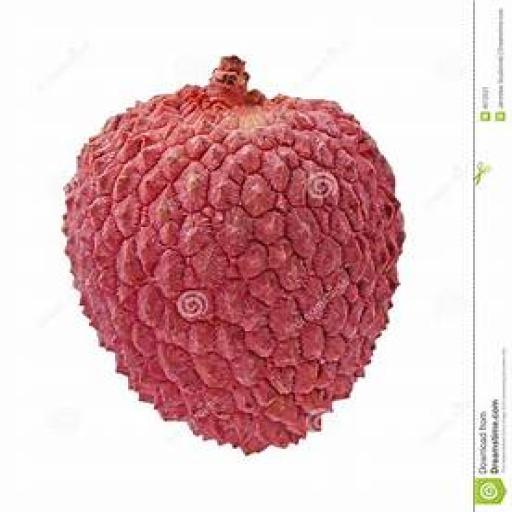lychee: (58, 53, 404, 456)
